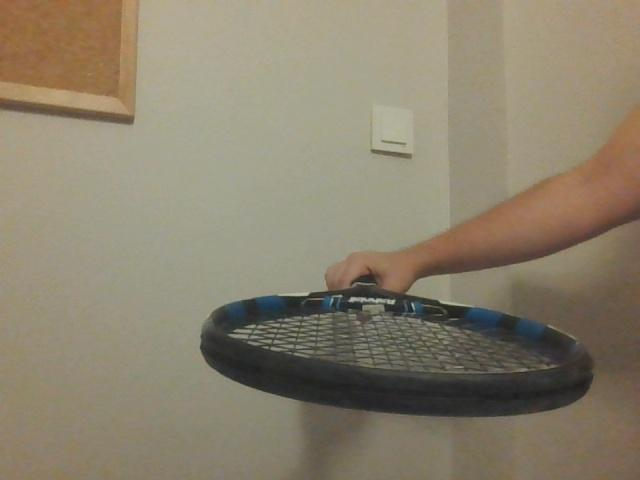Tennis-Racket: (200, 270, 596, 417)
